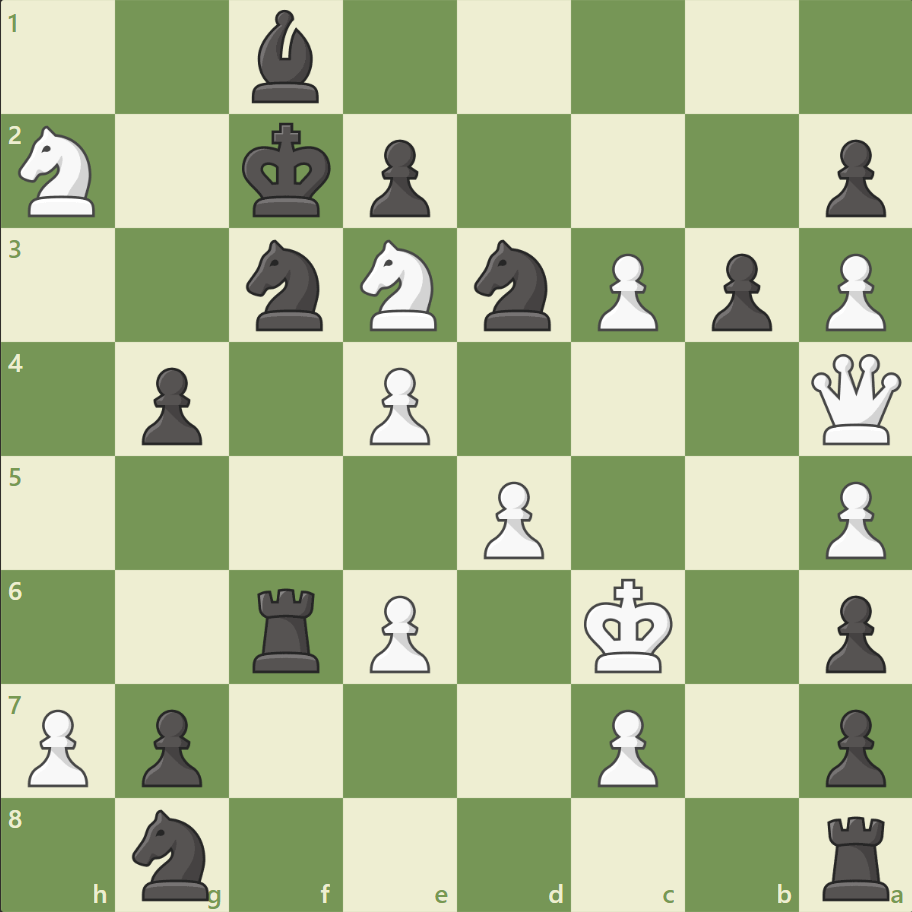K: (579, 571, 679, 679)
N: (351, 234, 449, 337), (11, 121, 108, 223)
P: (20, 700, 95, 791), (474, 473, 549, 564), (588, 700, 662, 791), (361, 586, 435, 677), (815, 473, 889, 564), (361, 359, 435, 450), (815, 246, 889, 337), (588, 246, 662, 337)
Q: (805, 349, 904, 449)
b: (244, 6, 328, 109)
k: (238, 117, 338, 225)
n: (124, 802, 222, 904), (465, 234, 562, 337), (238, 234, 335, 337)
p: (133, 700, 208, 791), (133, 359, 208, 450), (701, 246, 776, 337), (815, 700, 889, 791), (815, 586, 889, 677), (815, 132, 889, 223), (361, 132, 435, 223)
r: (814, 806, 897, 904), (246, 579, 329, 676)
